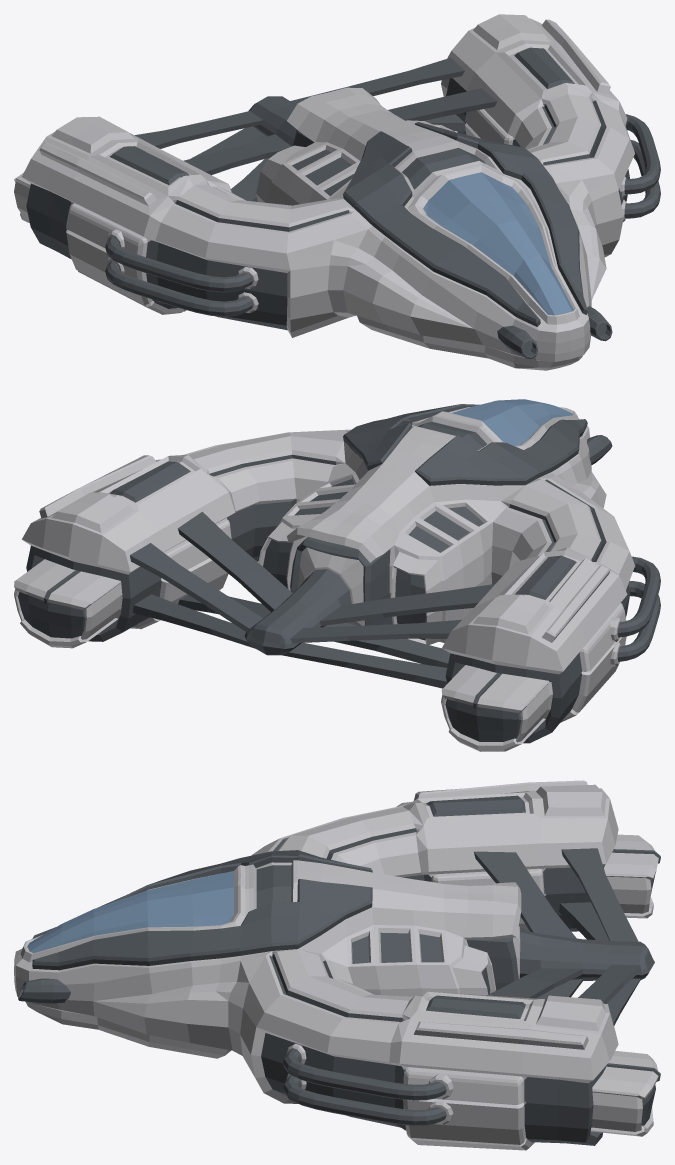
Rendered from Fighter_08_Neutral.fbx.
3 renders of one model, top to bottom at view 1: azimuth 30°, elevation 25°; view 2: azimuth 150°, elevation 25°; view 3: azimuth 270°, elevation 25°, orthographic. The views are drawn at different scales.
Parts seen in each view (by area): view 1: Fighter_08_Neutral; view 2: Fighter_08_Neutral; view 3: Fighter_08_Neutral.
Boxes of the visible parts, box(x1,y1,x2,y2) form: Fighter_08_Neutral: box(14, 14, 660, 370); Fighter_08_Neutral: box(14, 399, 660, 751); Fighter_08_Neutral: box(14, 780, 660, 1150).
Bounding box in the file's own units: 1805 × 539 × 1797.
3 materials, 3 textured.
